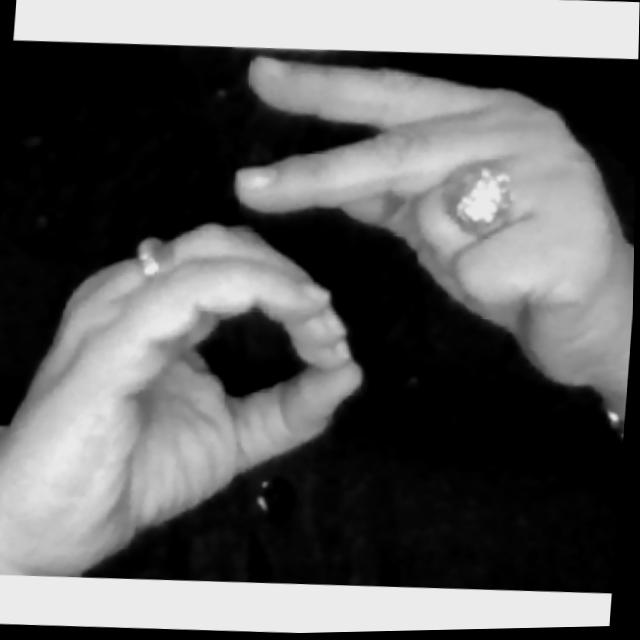O--: (0, 25, 639, 582)
